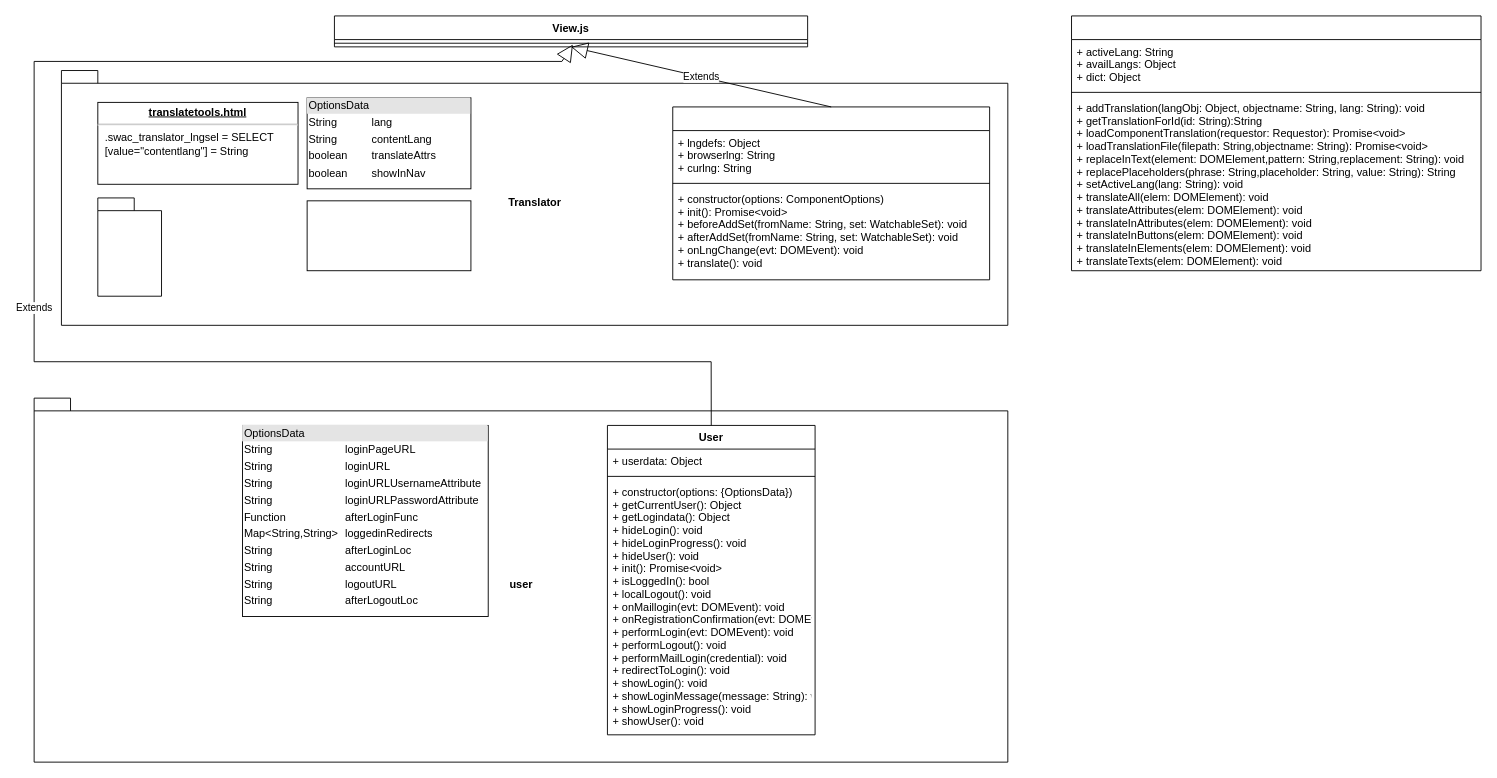
Some shapes in this 1497 by 778 pixel diagram are drawn without their labels. The box of each missing label's shape, as (x1, y1, x2, y2) in pixels:
ApplicationDataSet int8 id* String swac_lang String swac_file: (306, 200, 471, 271)
langs: (97, 197, 162, 296)
Language: (1071, 15, 1481, 271)
Translator.js: (672, 106, 990, 280)
